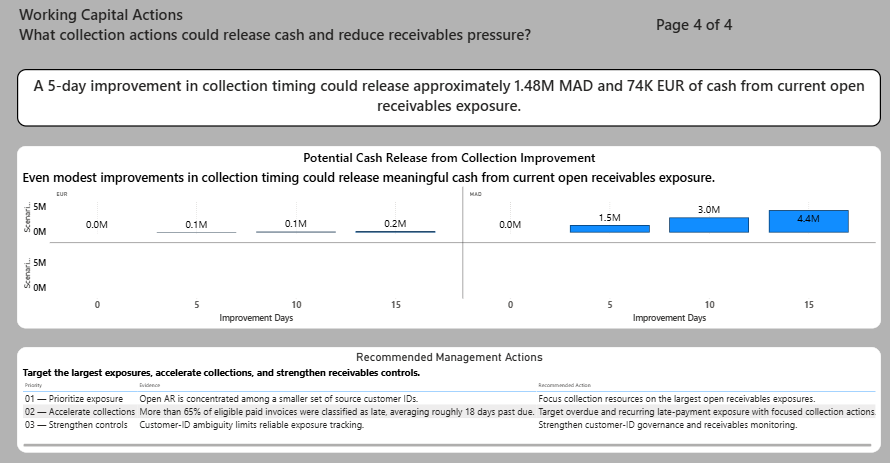

This screenshot's page, from the dashboard's own definition file:
{"tool":"powerbi","page":{"name":"Page 4","canvas":[2300,1200],"ordinal":3},"visuals":[{"type":"textbox","box":[96,24,1368,168],"z":0},{"type":"textbox","box":[1560,0,456,168],"z":1000},{"type":"textbox","box":[96,192,2160,144],"z":2000},{"type":"clusteredColumnChart","title":"Potential Cash Release from Collection Improvement","fields":{"Category":["Collection Improvement Scenario.Improvement Days"],"Y":["Table.Scenario Cash Release"],"Rows":["DimCurrency.Currency"]},"box":[96,384,2160,456],"z":3000},{"type":"tableEx","title":"Recommended Management Actions","fields":{"Values":["Management Recommendations.Priority","Management Recommendations.Evidence","Management Recommendations.Recommended Action"]},"box":[96,888,2160,264],"z":3001},{"type":"actionButton","box":[0,0,100,40],"z":3002}]}

Visuals, with their boxes in screenshot pixels (x1, y1, x2, y2), scaled from the page's 2300x1200 canvas onto the 890x463 screenshot:
textbox: crop(37, 9, 567, 74)
textbox: crop(604, 0, 780, 65)
textbox: crop(37, 74, 873, 130)
"Potential Cash Release from Collection Improvement" clusteredColumnChart: crop(37, 148, 873, 324)
"Recommended Management Actions" tableEx: crop(37, 343, 873, 444)
actionButton: crop(0, 0, 39, 15)
